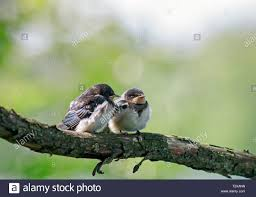home_sparrow: (54, 81, 121, 136), (108, 83, 154, 136)
